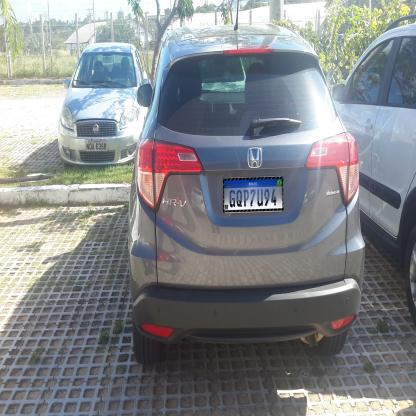PlacaM: (223, 177, 283, 212)
